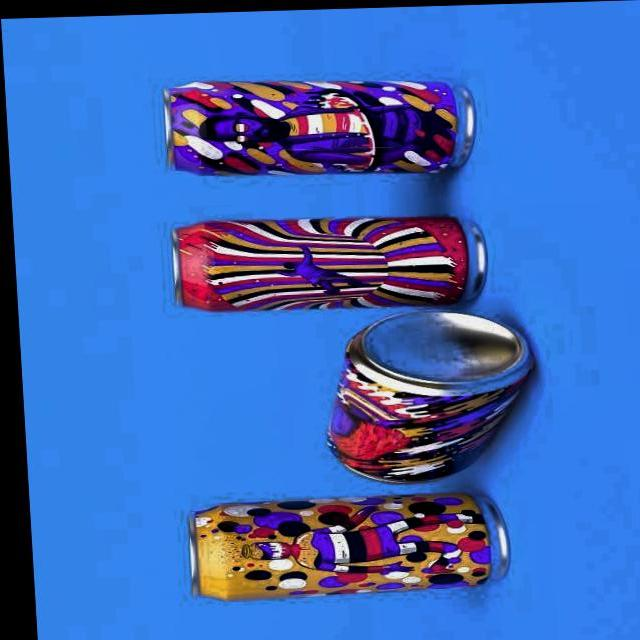litter: (311, 300, 538, 491), (170, 482, 512, 608), (156, 65, 481, 183), (158, 208, 488, 320)
